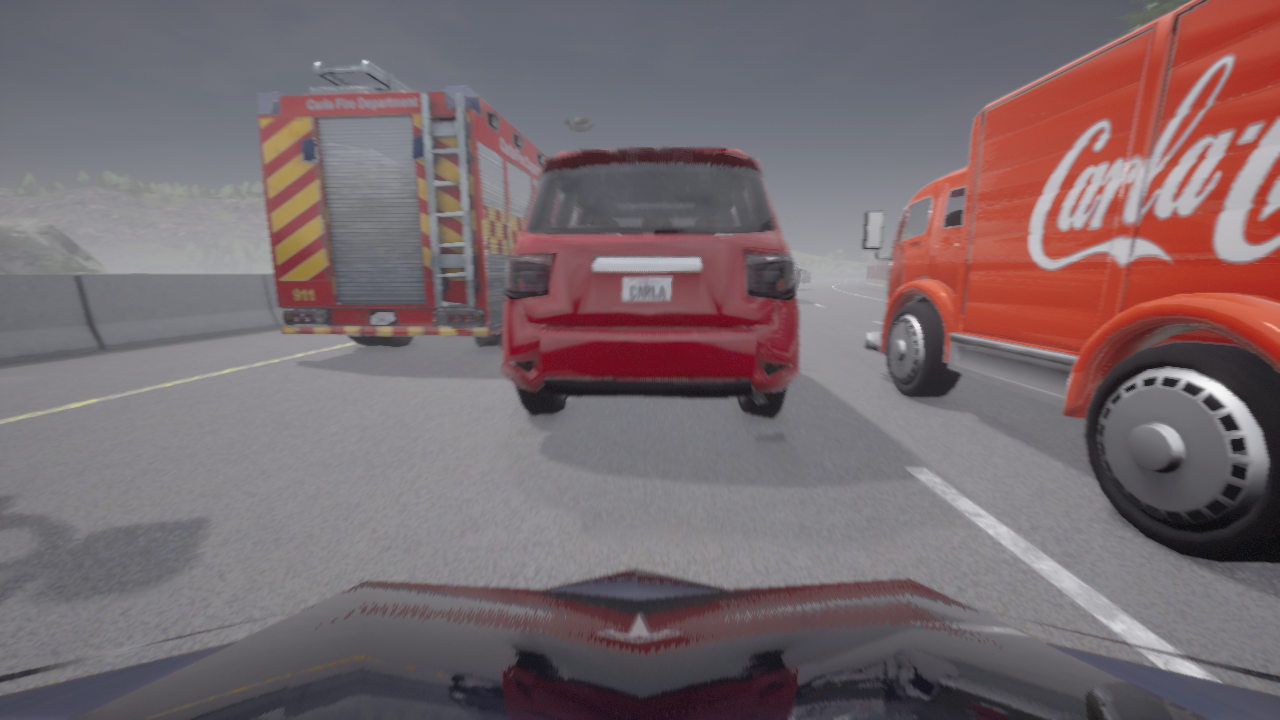cyclist: (862, 0, 1279, 563), (0, 569, 1279, 719), (257, 60, 549, 349), (503, 148, 798, 417), (799, 270, 810, 282), (796, 263, 800, 289)
